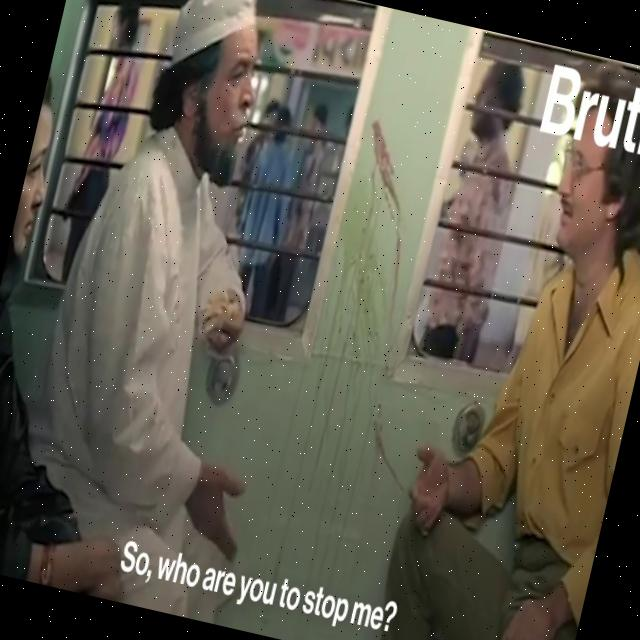spit: (296, 98, 462, 402)
